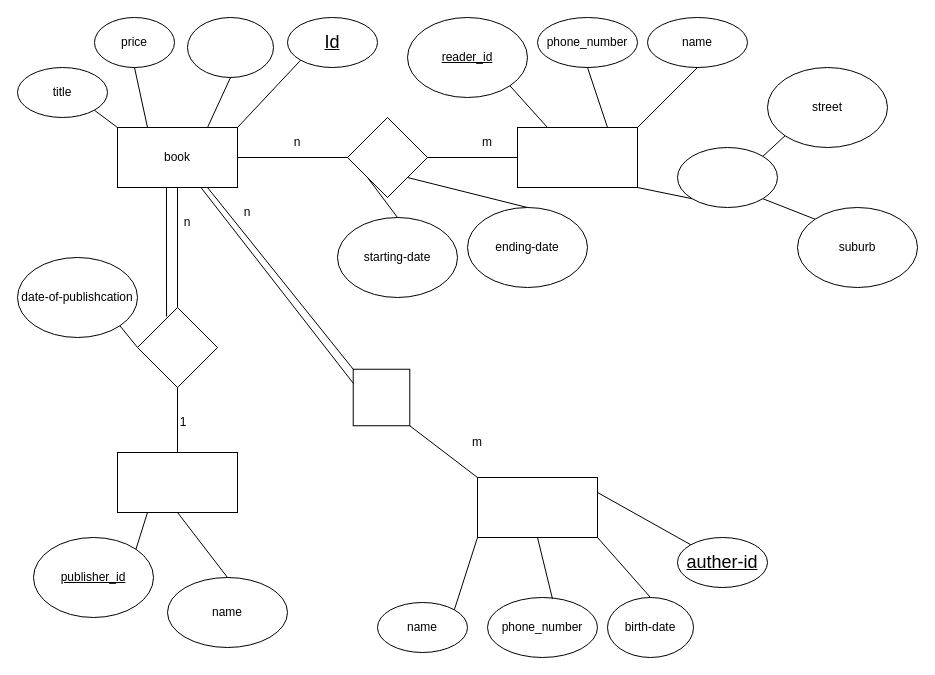
This 935x675 diagram has some shape labels left out. Each missing label, with the box of its shape:
address: (676, 146, 778, 208)
auther: (476, 476, 598, 538)
availability: (186, 16, 274, 78)
borrow: (346, 116, 428, 198)
publish: (136, 306, 218, 388)
publisher: (116, 452, 238, 512)
reader: (516, 126, 638, 188)
write: (324, 340, 438, 454)
